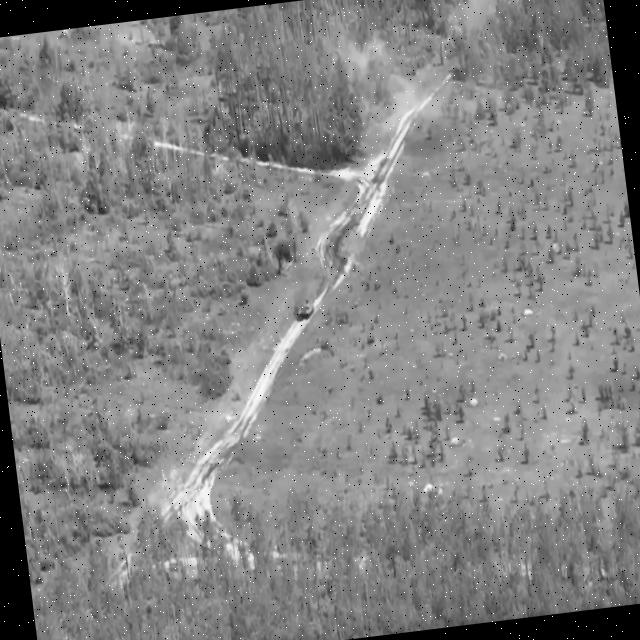MBT: (297, 299, 317, 322)
